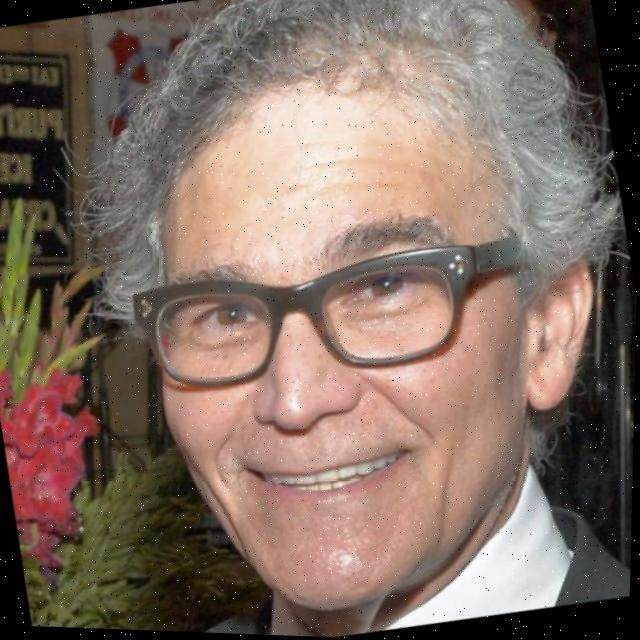puffy_eyes: (348, 292, 425, 327), (188, 325, 265, 357)
